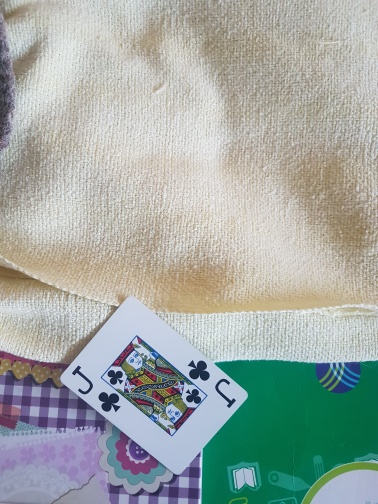jack: (58, 296, 249, 476)
